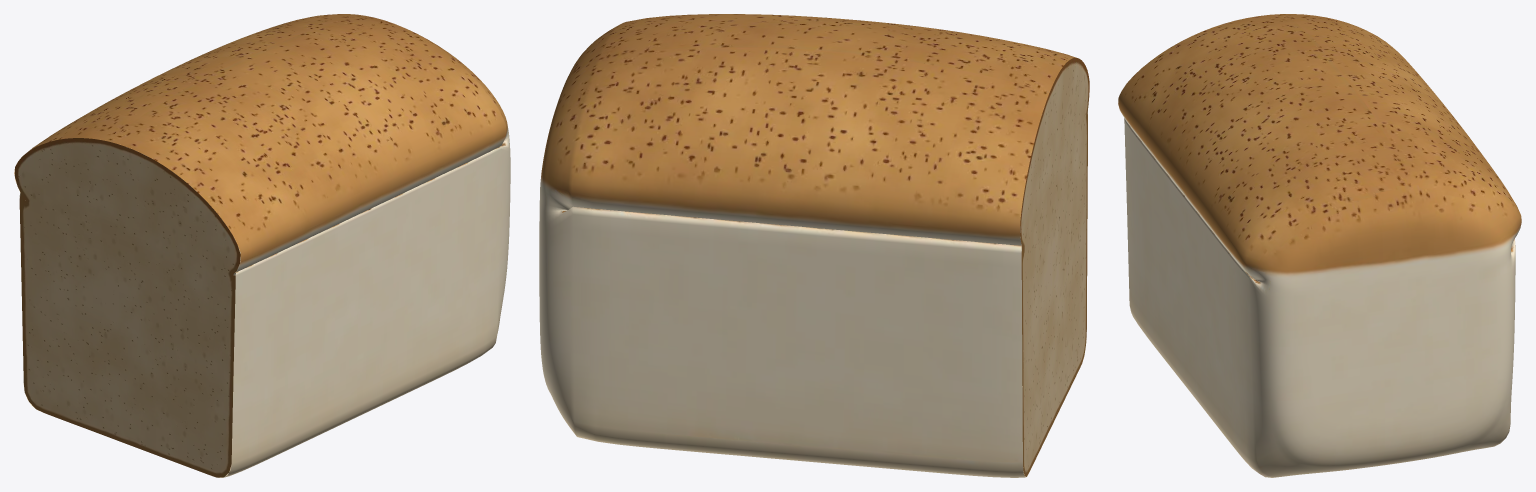
Rendered from loaf--flaxseed-seed.glb.
The picture shows the model from 3 angles, left to right: view 1: azimuth 30°, elevation 25°; view 2: azimuth 150°, elevation 25°; view 3: azimuth 270°, elevation 25°; orthographic projection. The views are drawn at different scales.
Visible parts, largest first — view 1: loaf_flaxseed-seed; view 2: loaf_flaxseed-seed; view 3: loaf_flaxseed-seed.
Boxes of the visible parts, bbox=[...] form: loaf_flaxseed-seed: bbox=[14, 14, 510, 477]; loaf_flaxseed-seed: bbox=[539, 14, 1089, 477]; loaf_flaxseed-seed: bbox=[1118, 14, 1521, 477].
Size of the model in its own units: 1.02 by 0.7199 by 0.8447.
Materials: 1 (1 with a texture image).
